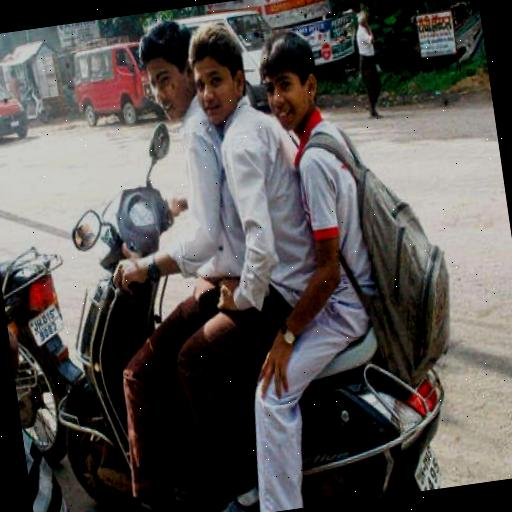no helmet: (132, 22, 206, 133)
triple riding: (111, 0, 379, 477)
